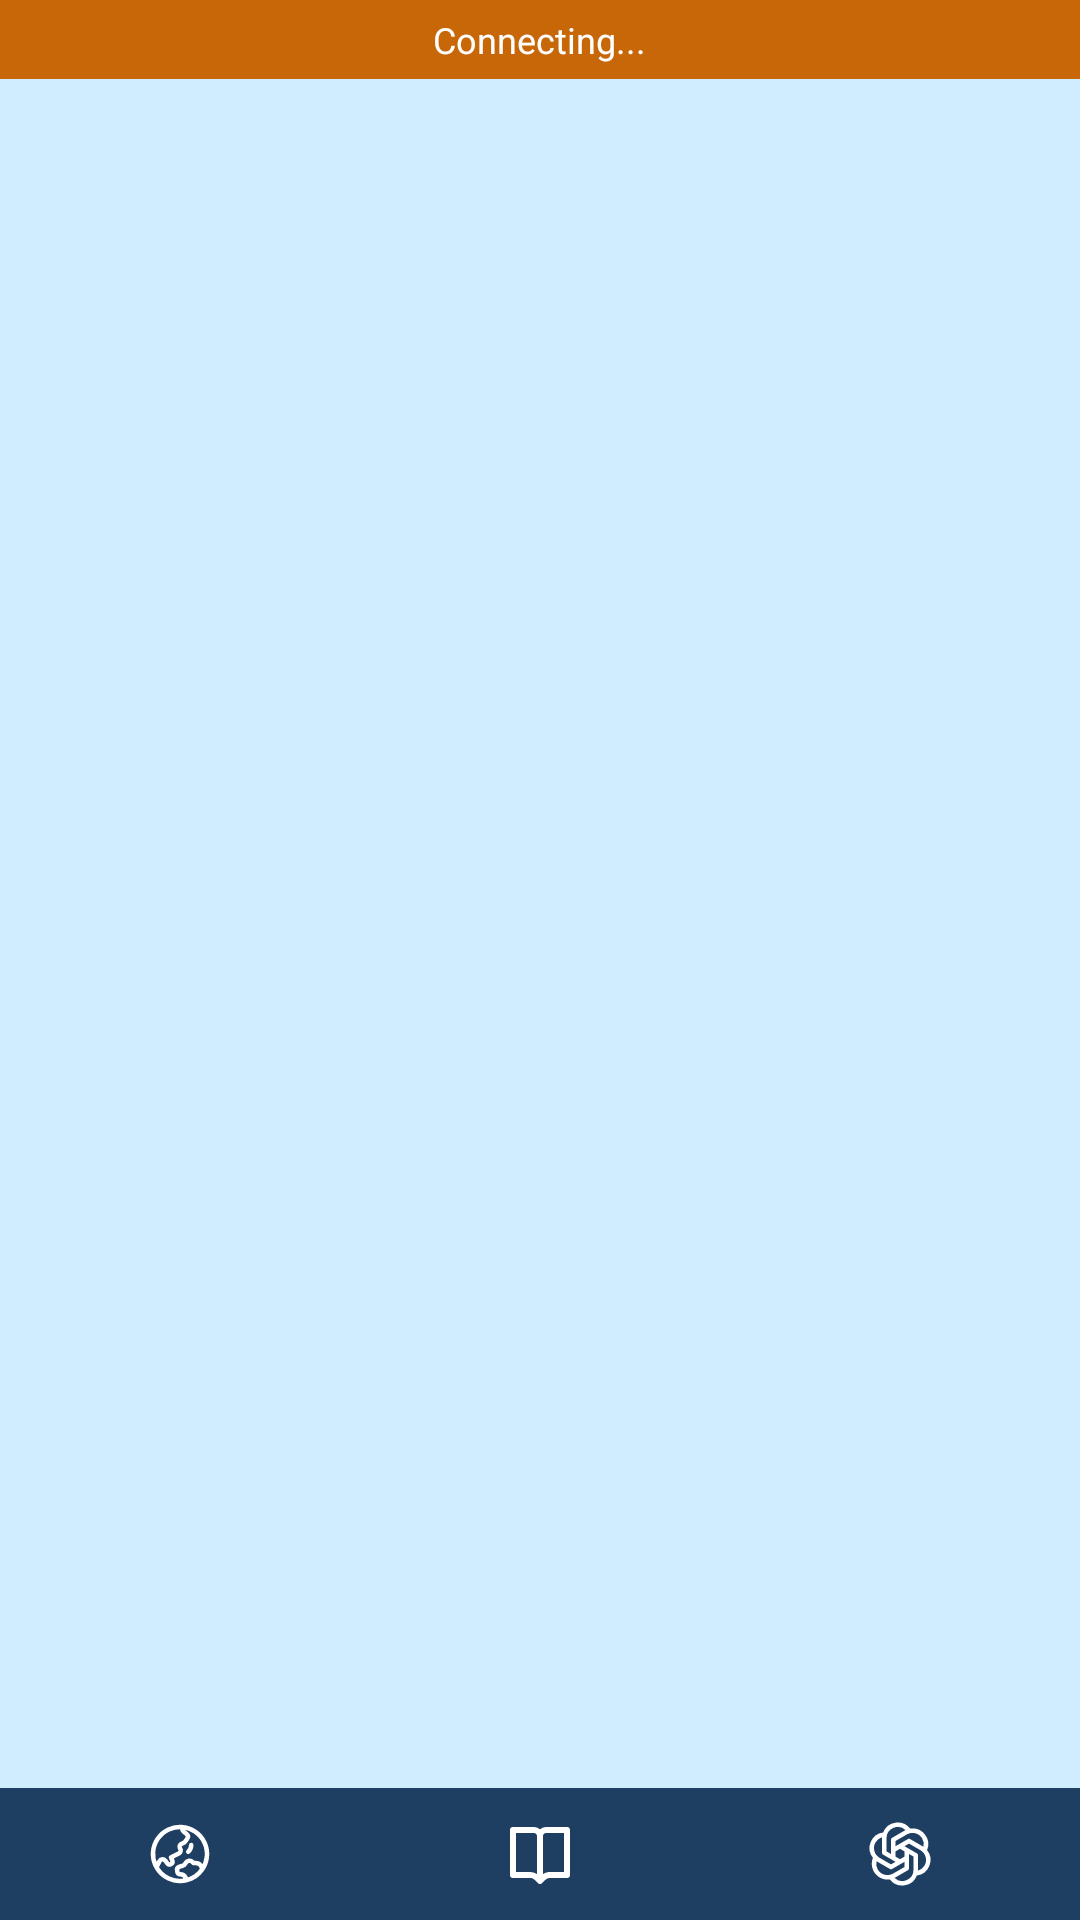

Locate icon controls on the screen. Image size 1080w x 1920h, boxes as Rect(x1, y1, x2, y2).
book: Rect(510, 1827, 570, 1884)
browser: Rect(150, 1824, 210, 1884)
